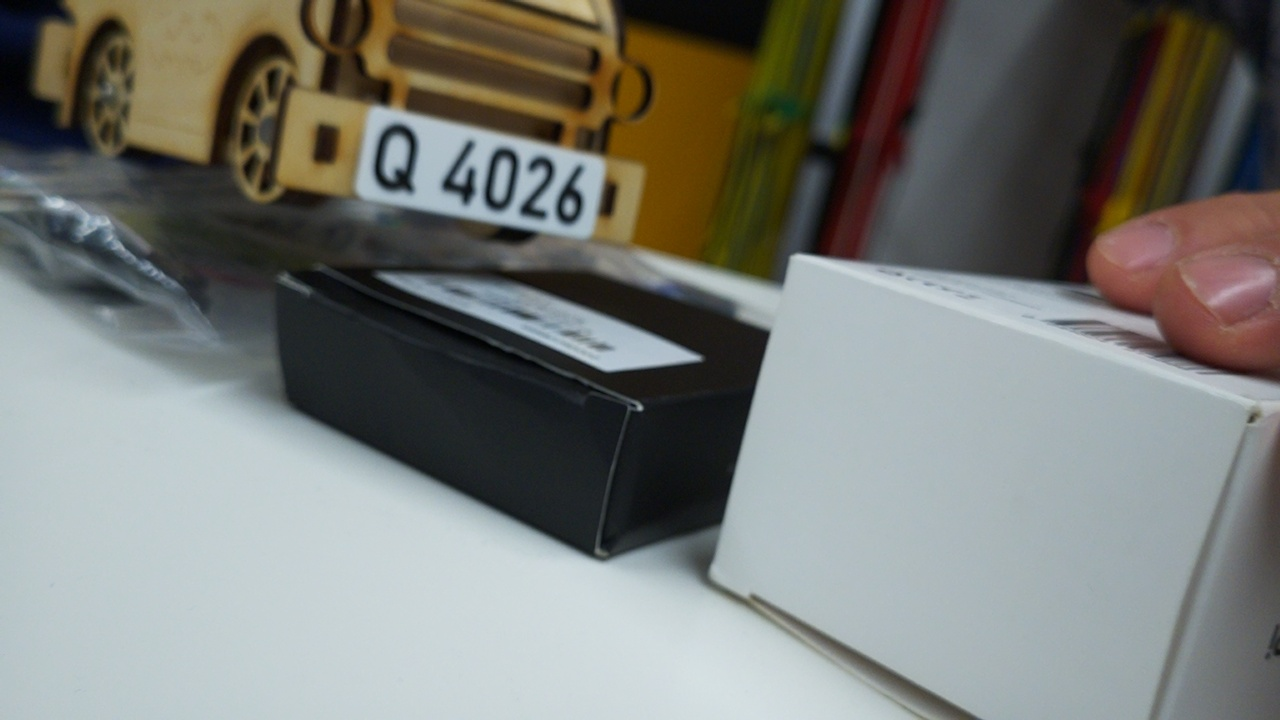license_plate: (351, 103, 613, 245)
